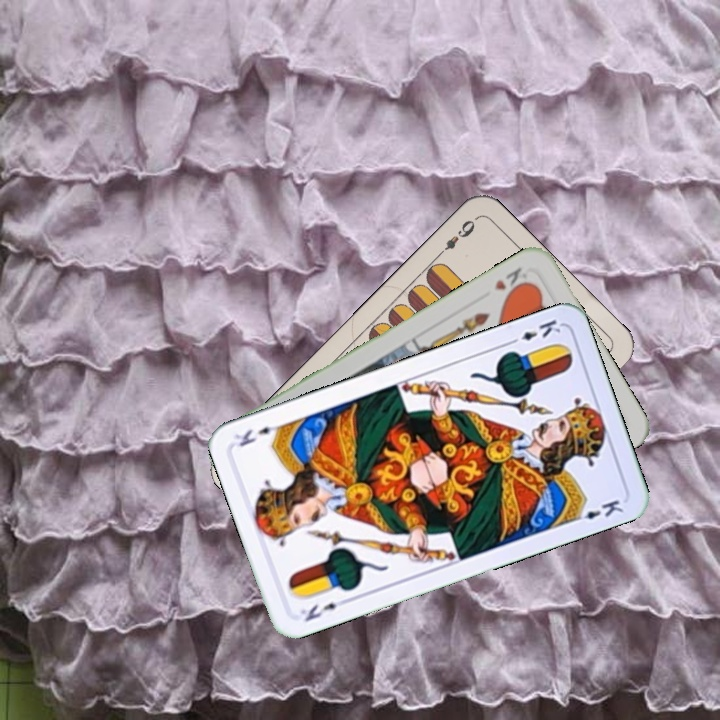E9: (433, 215, 478, 260)
EK: (505, 315, 564, 348), (296, 593, 352, 625)
HK: (490, 263, 533, 299)
